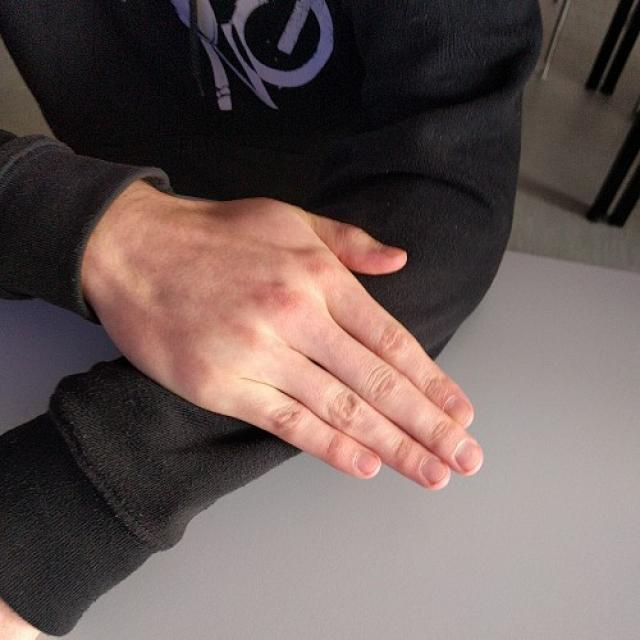paper: (168, 193, 482, 494)
